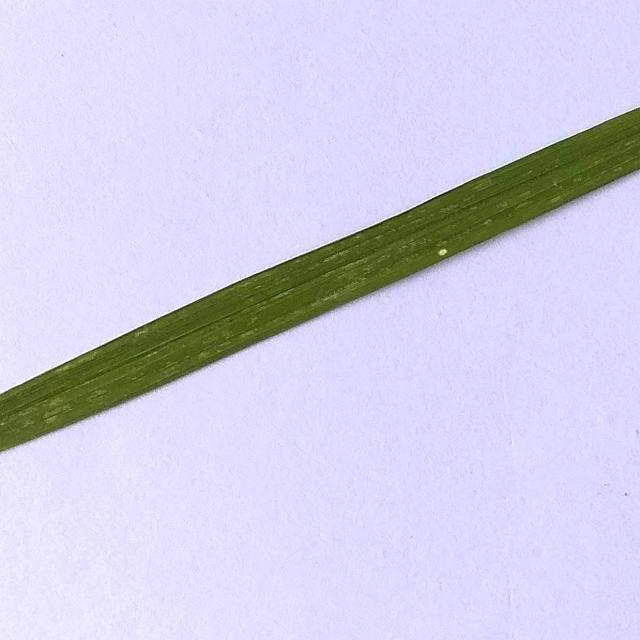Blast: (435, 246, 453, 258)
